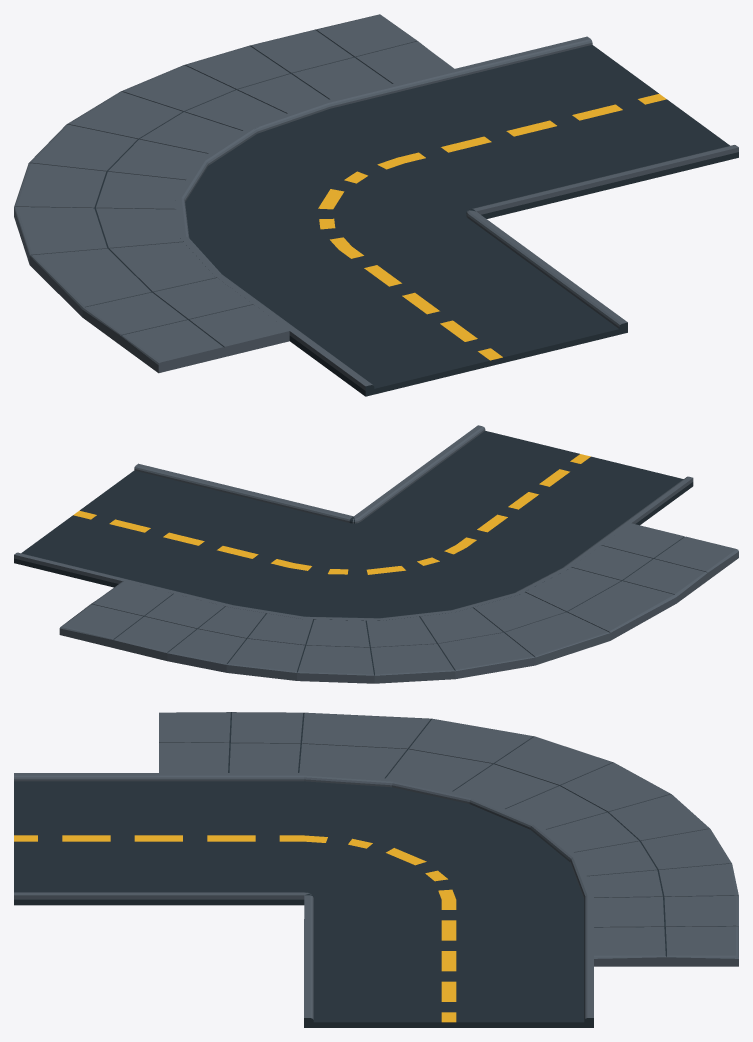
Rendered from Roads, SideWalks.fbx_CurvedRoad_Sidewalk.fbx.
The picture shows the model from 3 angles, top to bottom: view 1: azimuth 30°, elevation 25°; view 2: azimuth 150°, elevation 25°; view 3: azimuth 270°, elevation 25°; orthographic projection. The views are drawn at different scales.
Parts seen in each view (by area): view 1: CurvedRoad+Sidewalk; view 2: CurvedRoad+Sidewalk; view 3: CurvedRoad+Sidewalk.
Boxes of the visible parts, left/top/right/bottom form: CurvedRoad+Sidewalk: left=14, top=14, right=738, bottom=396; CurvedRoad+Sidewalk: left=14, top=425, right=738, bottom=683; CurvedRoad+Sidewalk: left=14, top=712, right=738, bottom=1027.
Size of the model in its own units: 6000 by 6000 by 90.
